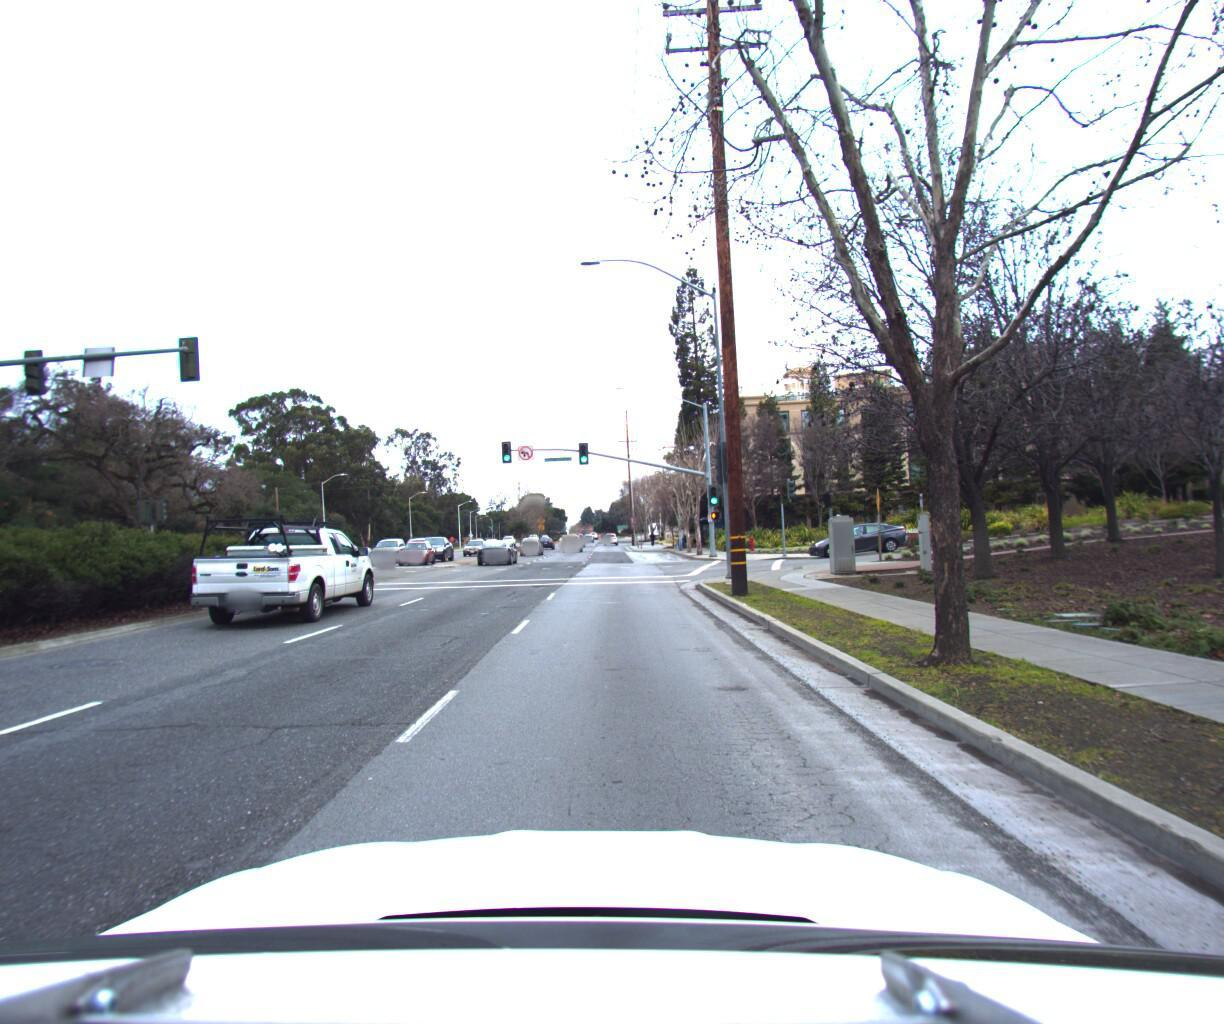car: (176, 500, 388, 624), (804, 513, 908, 549), (475, 531, 522, 560), (414, 527, 460, 554), (369, 529, 414, 556), (397, 530, 440, 558), (518, 527, 546, 547), (565, 524, 586, 543)
